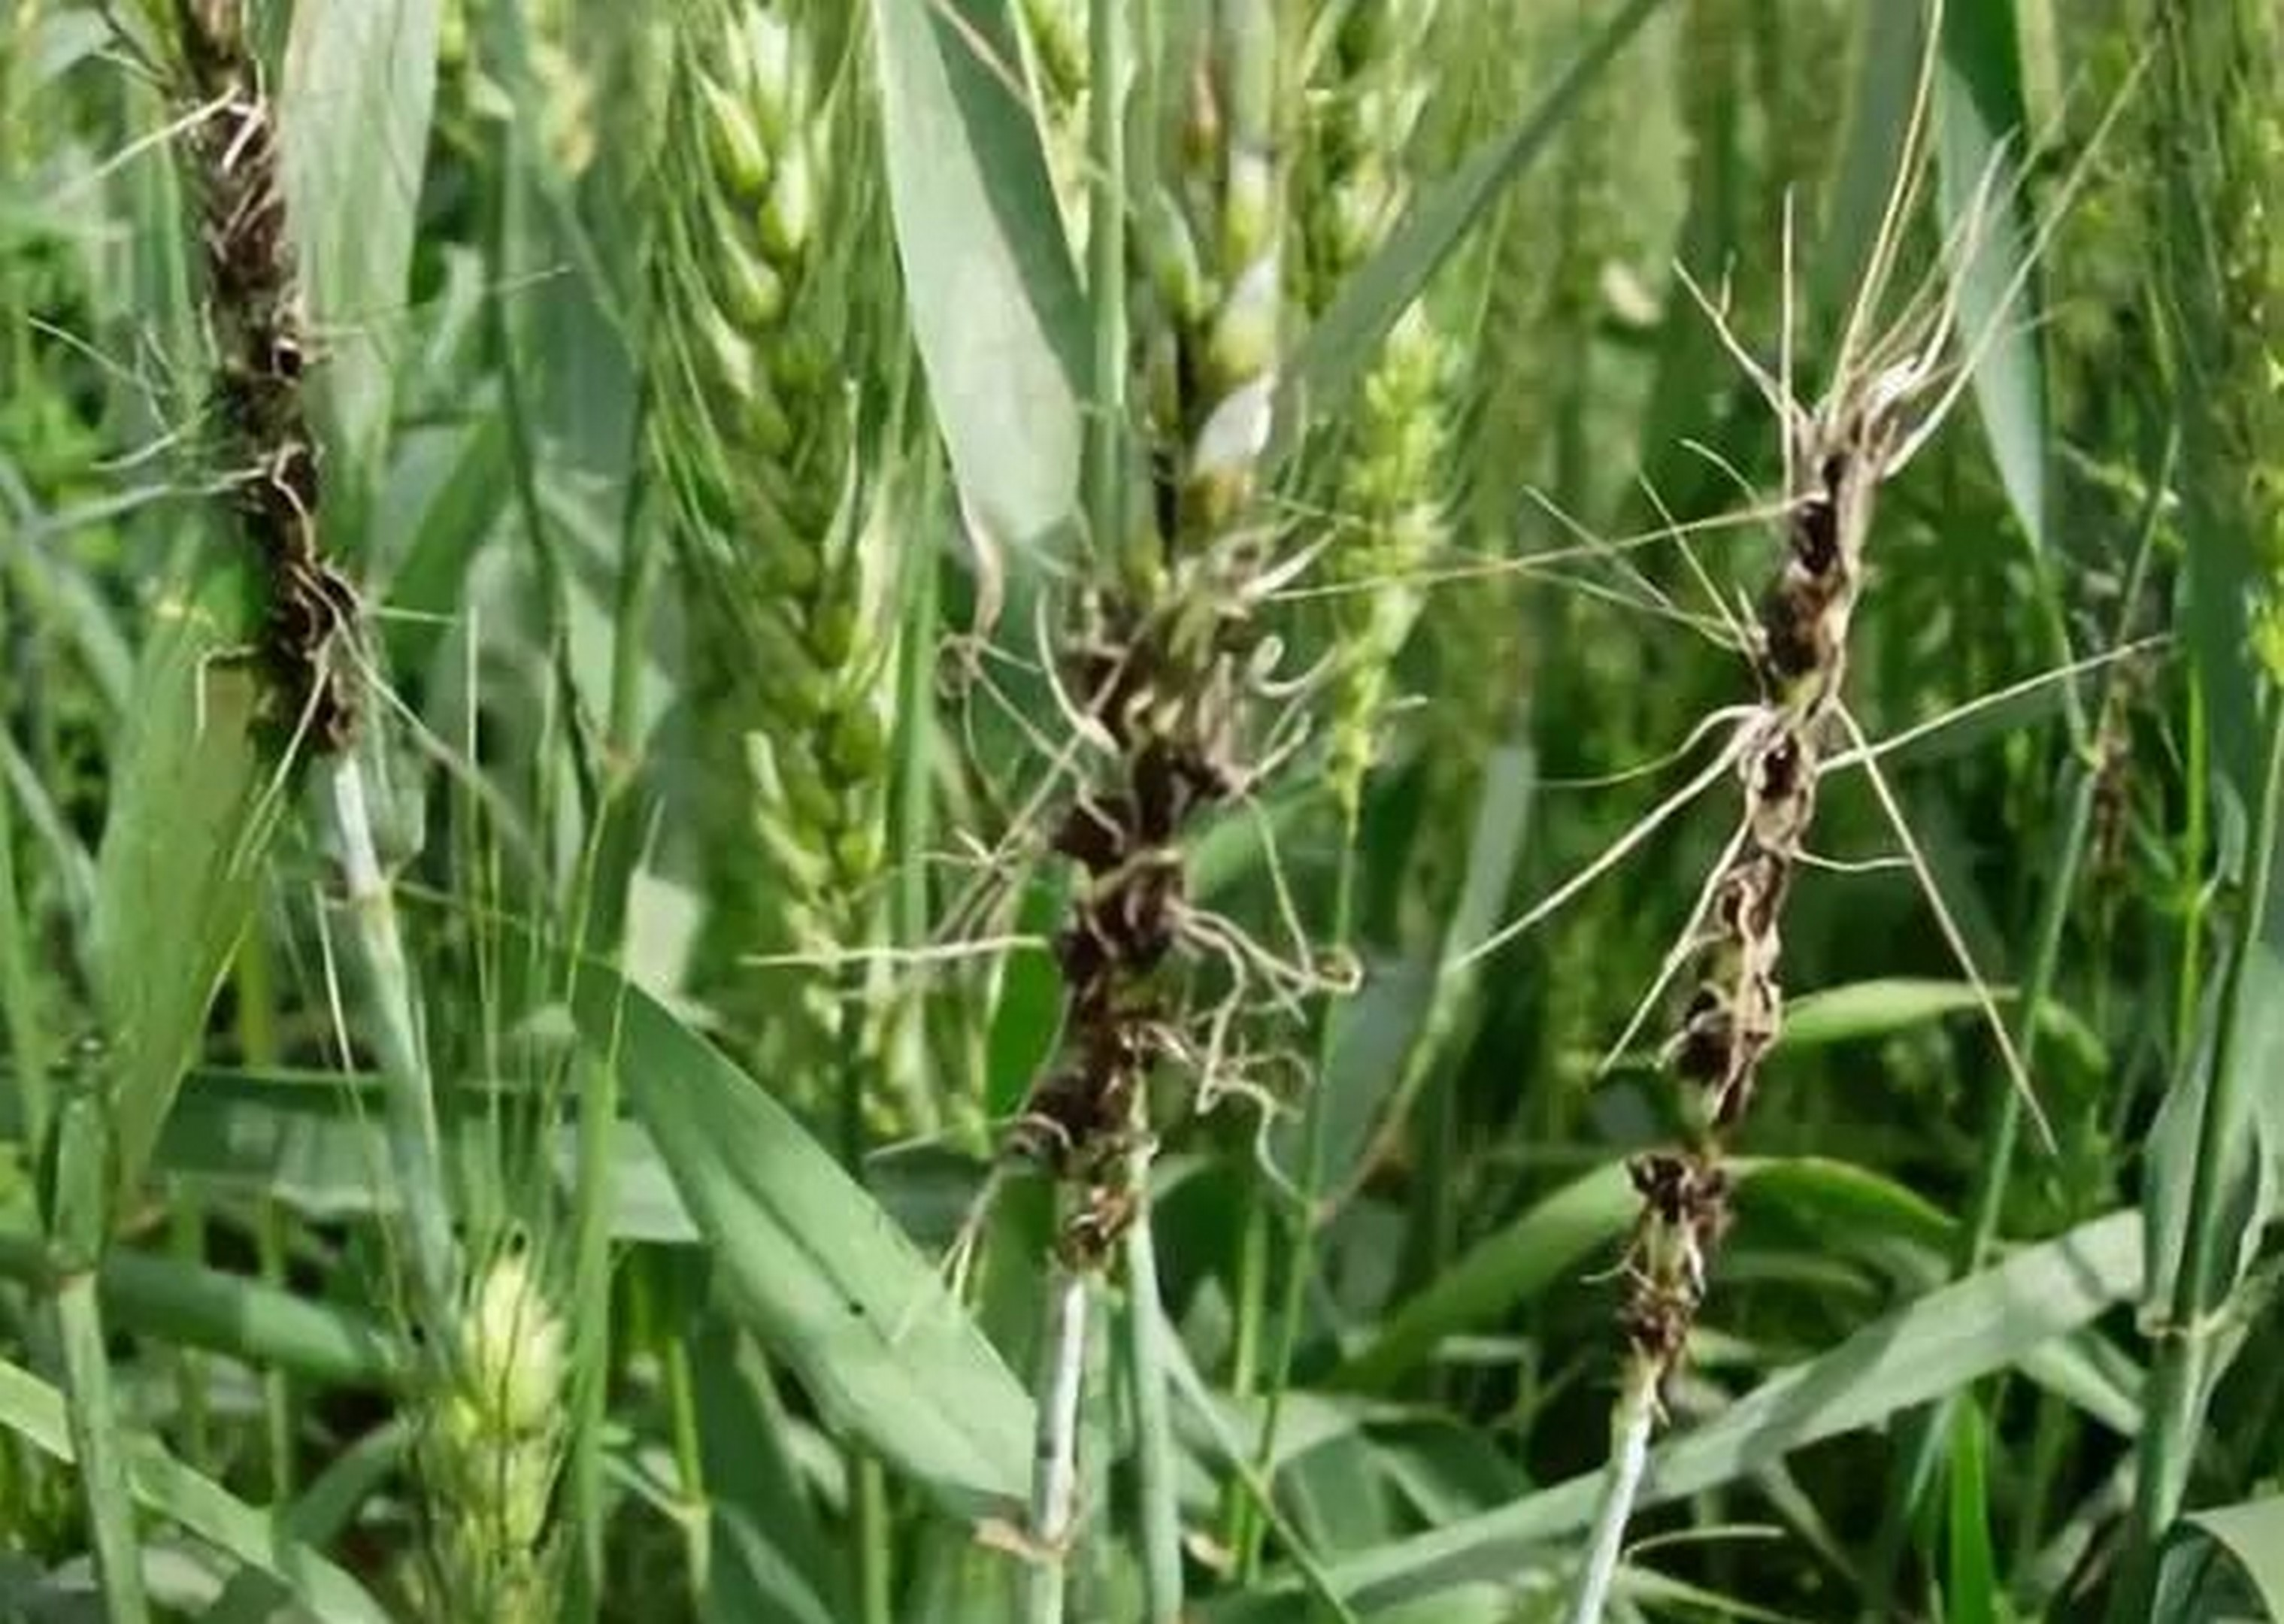Wheat Loose Smut: (1576, 410, 1897, 1329), (134, 53, 390, 773), (1010, 708, 1253, 1255)
